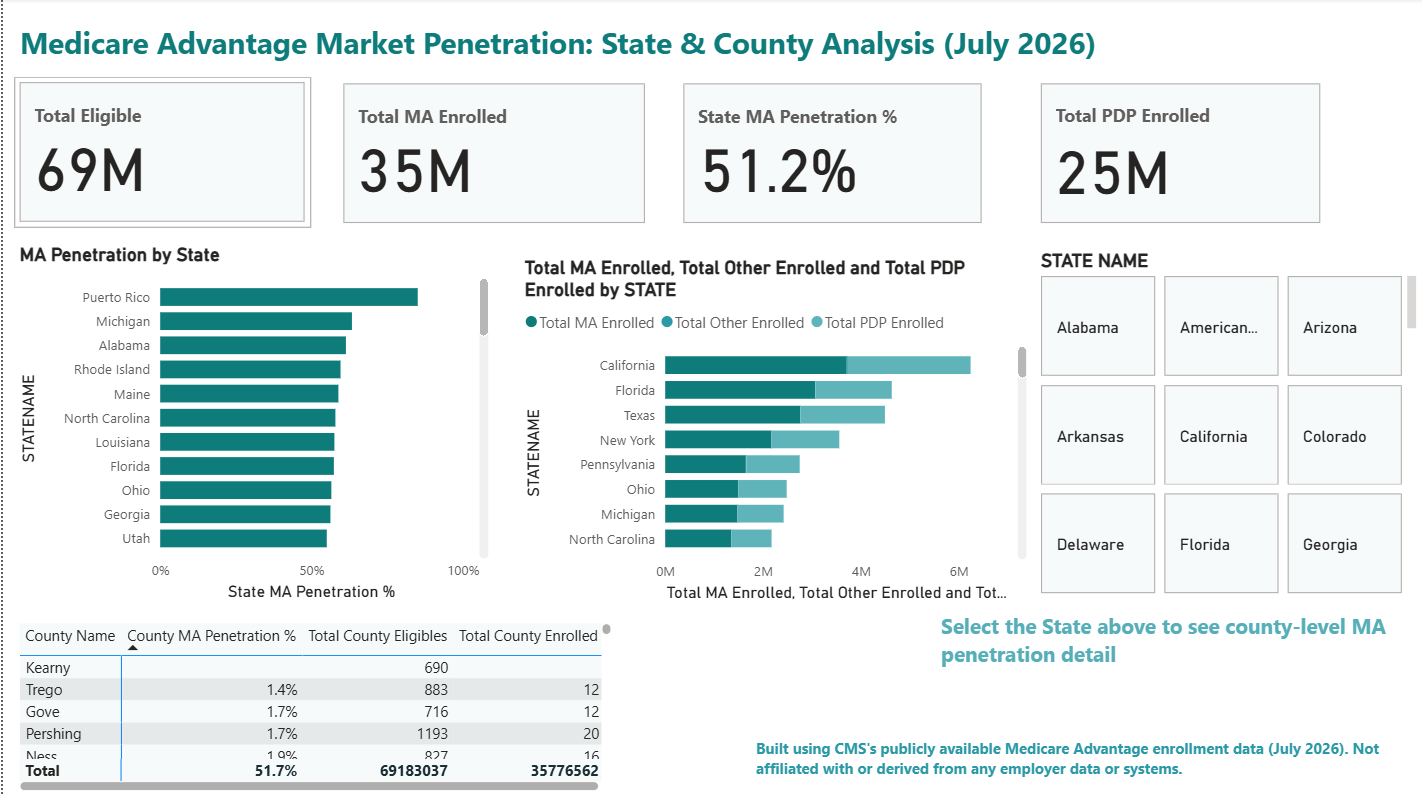

This screenshot's page, from the dashboard's own definition file:
{"tool":"powerbi","page":{"name":"Page 1","canvas":[1280,720],"ordinal":0},"visuals":[{"type":"cardVisual","fields":{"Data":["Monthly_Report_By_State_2026_07.Total Eligible"]},"box":[10.5,70.6,267.4,136.7],"z":0},{"type":"cardVisual","fields":{"Data":["Monthly_Report_By_State_2026_07.Total MA Enrolled"]},"box":[302,72.1,282.4,136.7],"z":1000},{"type":"cardVisual","fields":{"Data":["Monthly_Report_By_State_2026_07.Total PDP Enrolled"]},"box":[931.5,72.1,262.9,136.7],"z":2000},{"type":"cardVisual","fields":{"Data":["Monthly_Report_By_State_2026_07.State MA Penetration %"]},"box":[608.5,72.1,279.4,136.7],"z":3000},{"type":"barChart","title":"MA Penetration by State","fields":{"Category":["Monthly_Report_By_State_2026_07.STATENAME"],"Y":["Monthly_Report_By_State_2026_07.State MA Penetration %"]},"box":[10.5,220.8,432.7,327.5],"z":4000},{"type":"barChart","title":"Total MA Enrolled, Total Other Enrolled and Total PDP Enrolled by STATE","fields":{"Category":["Monthly_Report_By_State_2026_07.STATENAME"],"Y":["Monthly_Report_By_State_2026_07.Total MA Enrolled","Monthly_Report_By_State_2026_07.Total Other Enrolled","Monthly_Report_By_State_2026_07.Total PDP Enrolled"]},"box":[465.7,232.9,462.7,315.5],"z":5000},{"type":"advancedSlicerVisual","title":"STATE NAME","fields":{"Values":["Monthly_Report_By_State_2026_07.STATENAME"]},"box":[931.5,226.9,348.5,317],"z":6000},{"type":"pivotTable","fields":{"Values":["State_County_Penetration_MA_2026_07.County MA Penetration %","State_County_Penetration_MA_2026_07.Total County Eligibles","State_County_Penetration_MA_2026_07.Total County Enrolled"],"Rows":["State_County_Penetration_MA_2026_07.County Name"]},"box":[10.7,559,543.6,161.1],"z":7000},{"type":"textbox","box":[841.3,548.4,438.7,85.6],"z":8000},{"type":"textbox","box":[674.6,662.5,605.4,57.1],"z":9000},{"type":"textbox","box":[905.9,0,154.7,31.5],"z":10000},{"type":"textbox","box":[10.5,16.5,1017.1,54.1],"z":11000}]}

Visuals, with their boxes in screenshot pixels (x1, y1, x2, y2), scaled from the page's 1280x720 canvas onto the 1422x795 screenshot:
cardVisual - Monthly_Report_By_State_2026_07.Total Eligible: 12, 78, 309, 229
cardVisual - Monthly_Report_By_State_2026_07.Total MA Enrolled: 336, 80, 649, 231
cardVisual - Monthly_Report_By_State_2026_07.Total PDP Enrolled: 1035, 80, 1327, 231
cardVisual - Monthly_Report_By_State_2026_07.State MA Penetration %: 676, 80, 986, 231
"MA Penetration by State" barChart: 12, 244, 492, 605
"Total MA Enrolled, Total Other Enrolled and Total PDP Enrolled by STATE" barChart: 517, 257, 1031, 606
"STATE NAME" advancedSlicerVisual: 1035, 251, 1421, 601
pivotTable - State_County_Penetration_MA_2026_07.County MA Penetration % x State_County_Penetration_MA_2026_07.Total County Eligibles: 12, 617, 616, 794
textbox: 935, 606, 1421, 700
textbox: 749, 732, 1421, 794
textbox: 1006, 0, 1178, 35
textbox: 12, 18, 1142, 78
